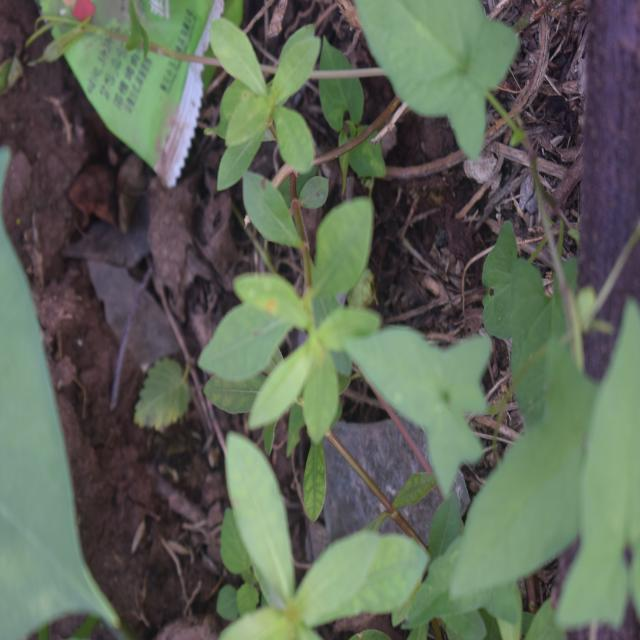Alligatorweed: (182, 22, 353, 172)
